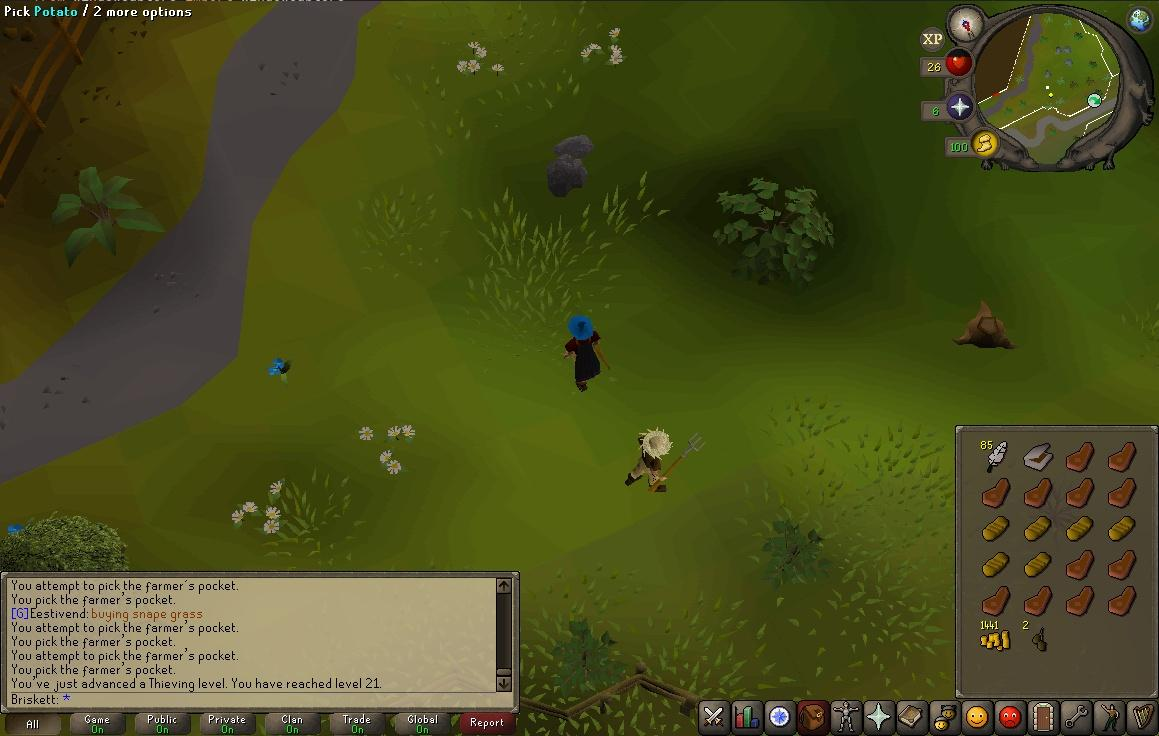Farmer: (624, 427, 673, 493)
